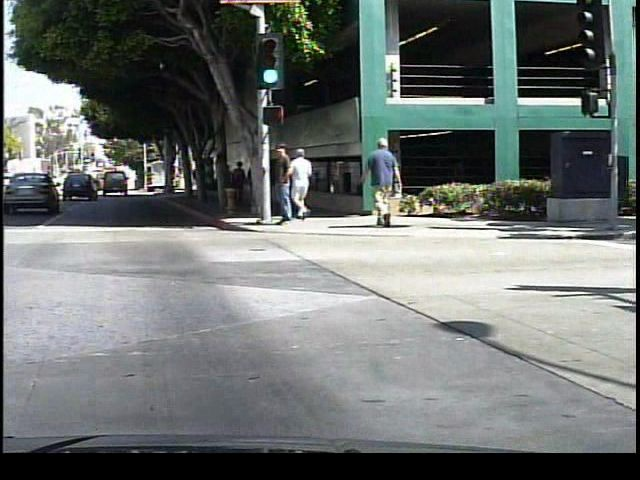person: (359, 134, 406, 229), (271, 143, 301, 235), (286, 145, 317, 219), (231, 159, 248, 209)
